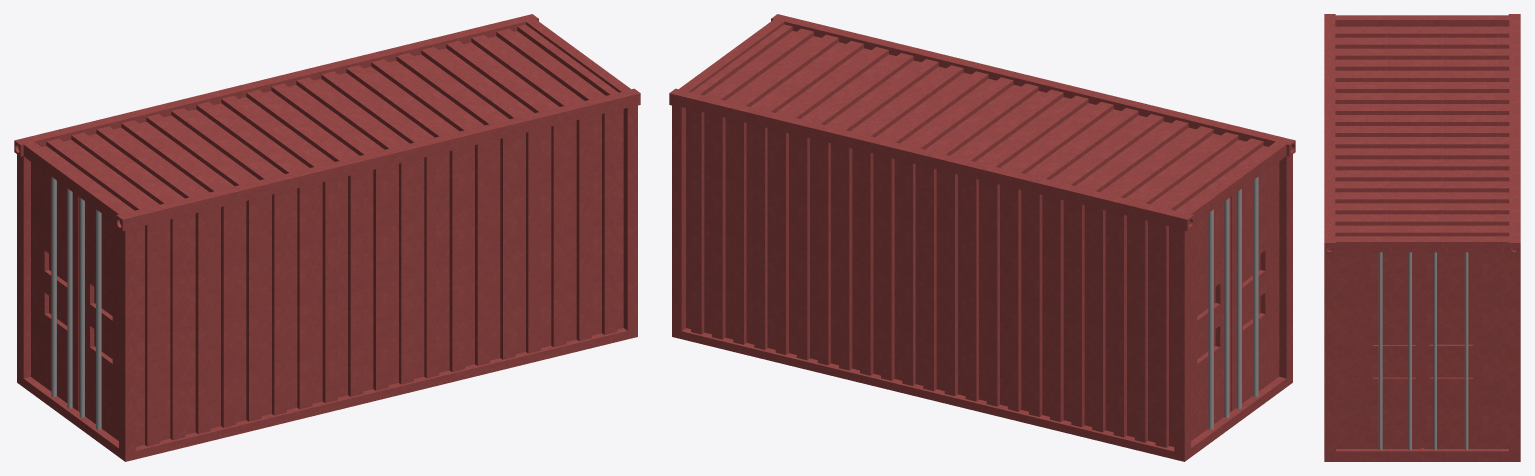
Rendered from low_poly_container.glb.
3 views of the same model, side by side, from view 1: azimuth 30°, elevation 25°; view 2: azimuth 150°, elevation 25°; view 3: azimuth 270°, elevation 25° (orthographic). The views are drawn at different scales.
Parts seen in each view (by area): view 1: Material2 (×2); view 2: Material2 (×2); view 3: Material2 (×2).
Part boxes in pixels (bbox=[...]): Material2 (×2): bbox=[14, 14, 640, 461]; Material2 (×2): bbox=[669, 14, 1295, 461]; Material2 (×2): bbox=[1324, 14, 1520, 461].
Bounding box in the file's own units: 192 × 86 × 69.5.
Materials: 2 (1 with a texture image).
